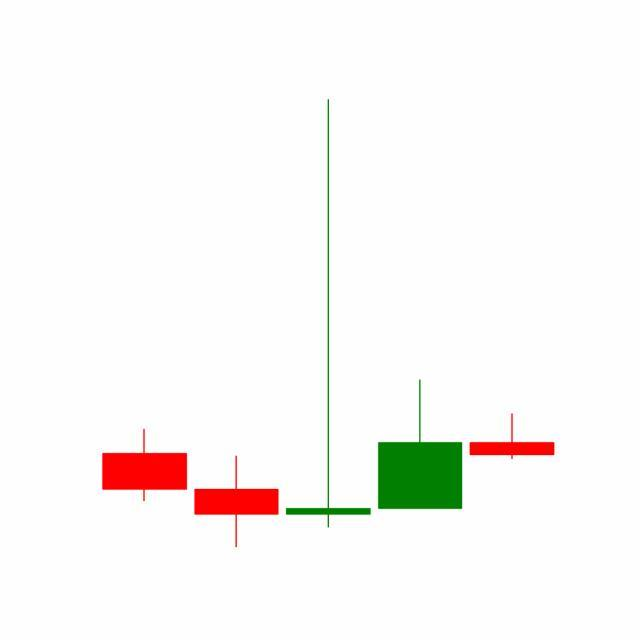Gravestone Doji: (466, 413, 559, 461)
